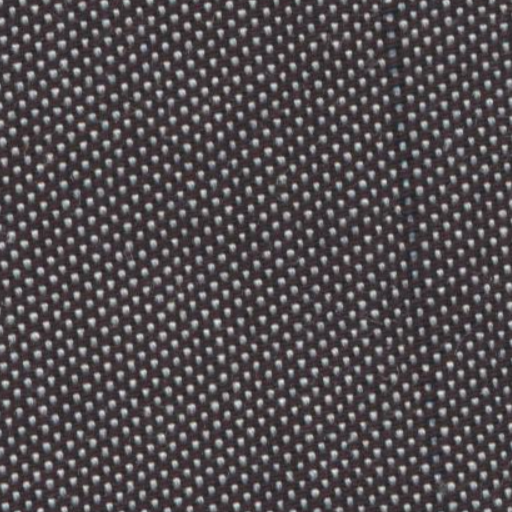TuoSha: (354, 10, 481, 503)
